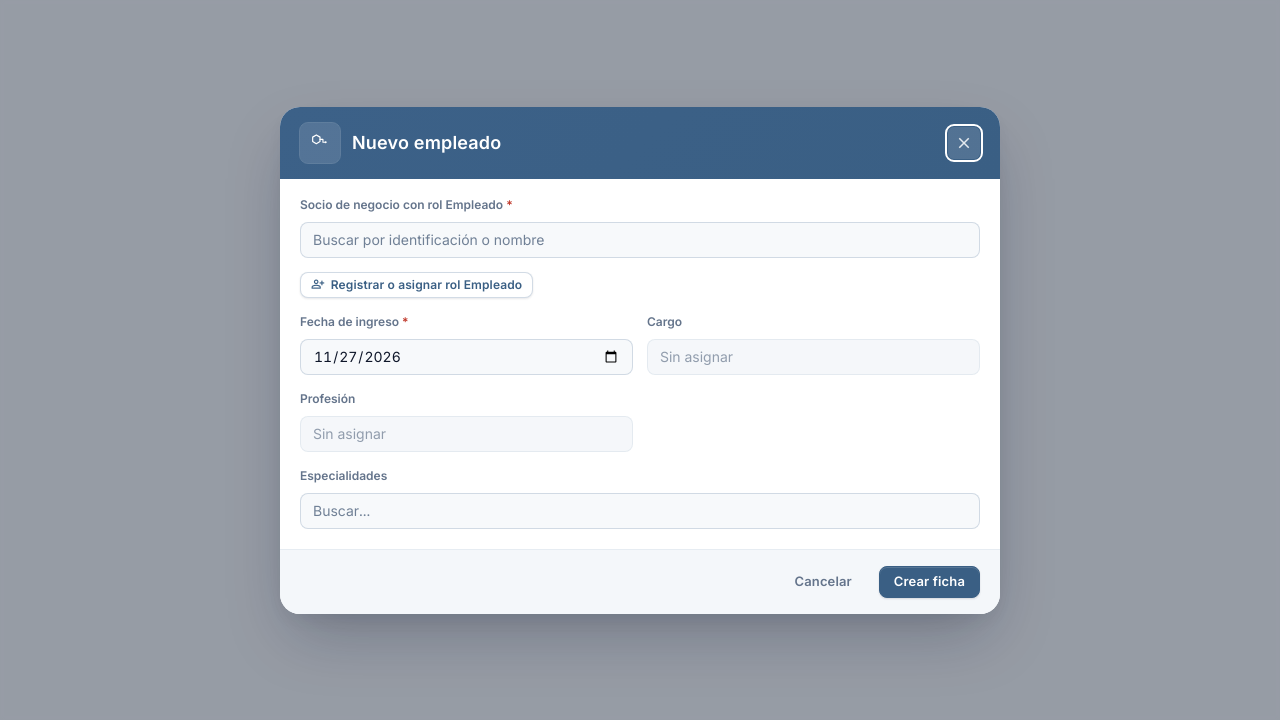
Scenario: alta de empleado › muestra el mensaje oficial del servidor y no cierra
The width and height of the screenshot is (1280, 720).
In the dropdown labelled "Socio de negocio con rol Empleado": (640, 240) [300, 222, 980, 258], type "ana"
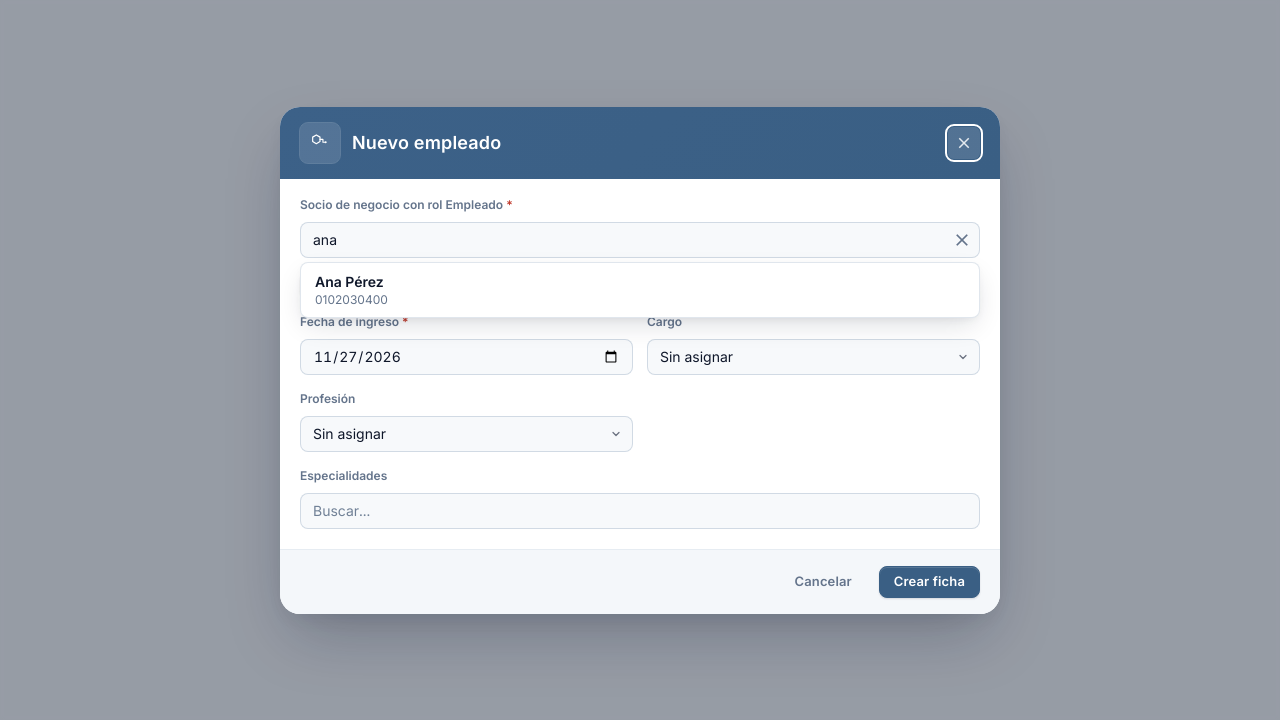
Click the option "Ana Pérez 0102030400": (349, 281) [301, 262, 979, 316]
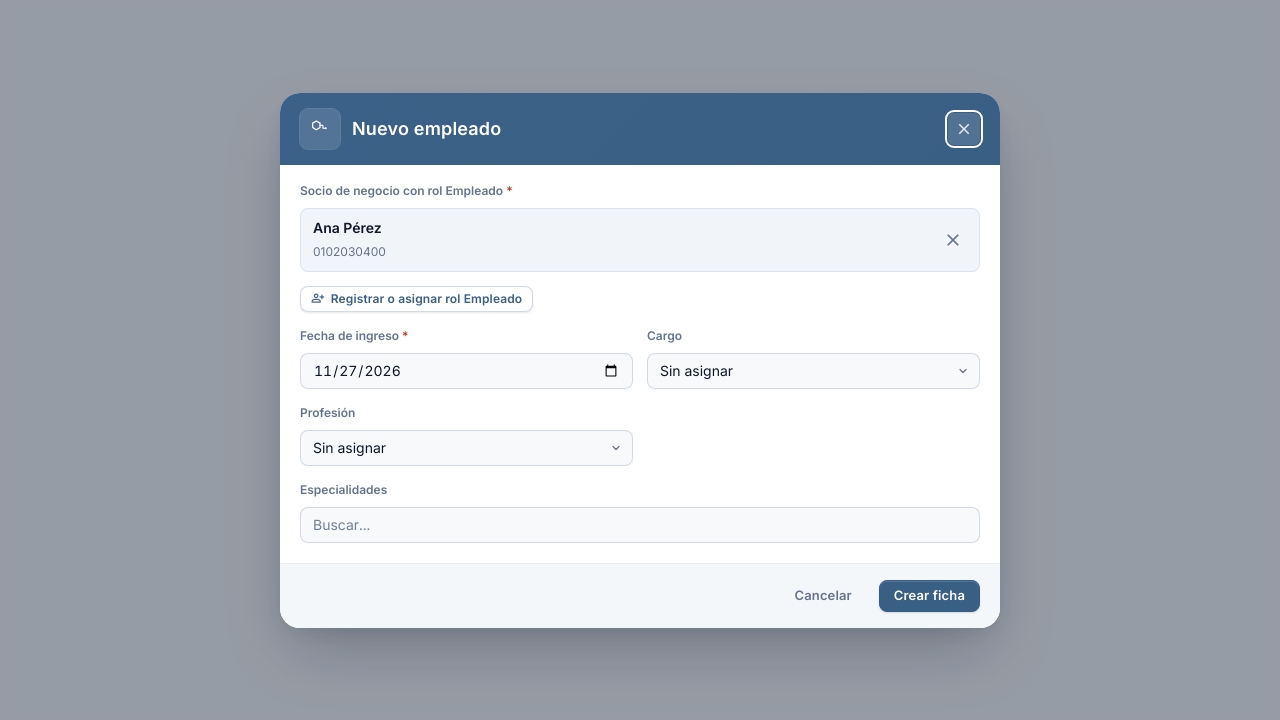
Click the button "Crear ficha": (929, 596) [879, 580, 980, 612]
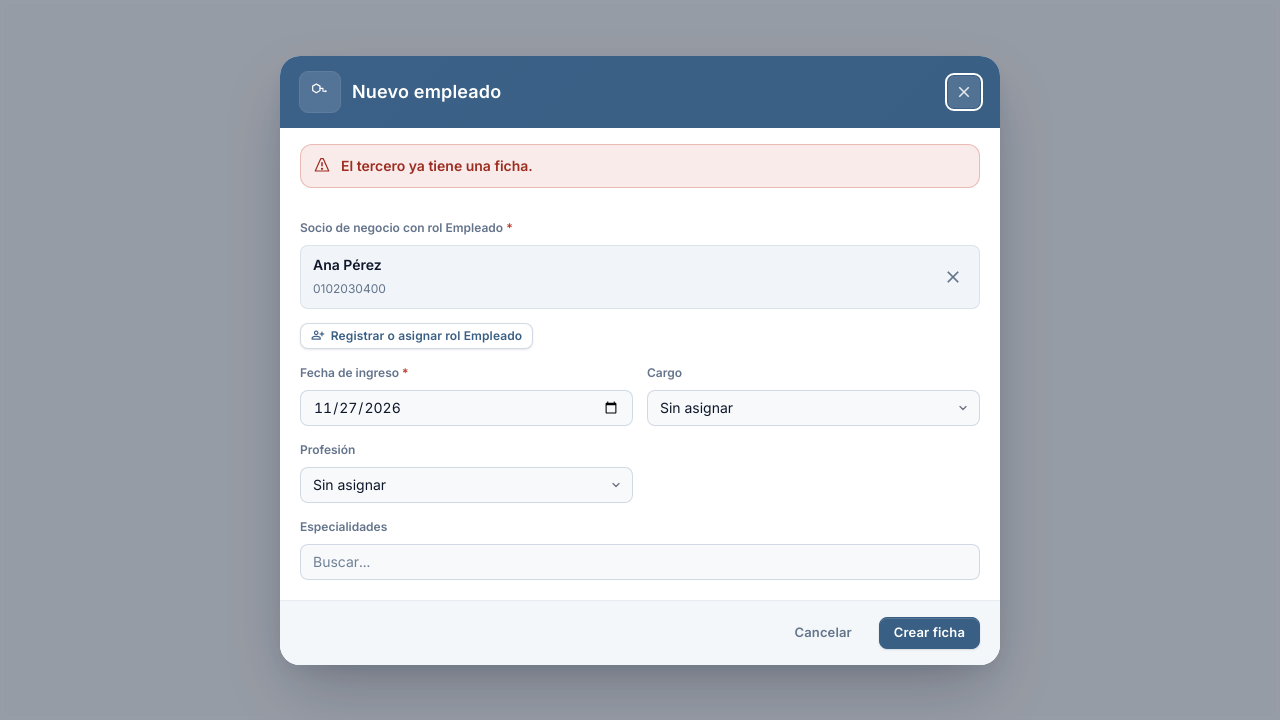
Expected: the text "El tercero ya tiene una ficha." is shown, [341, 154, 533, 176]
